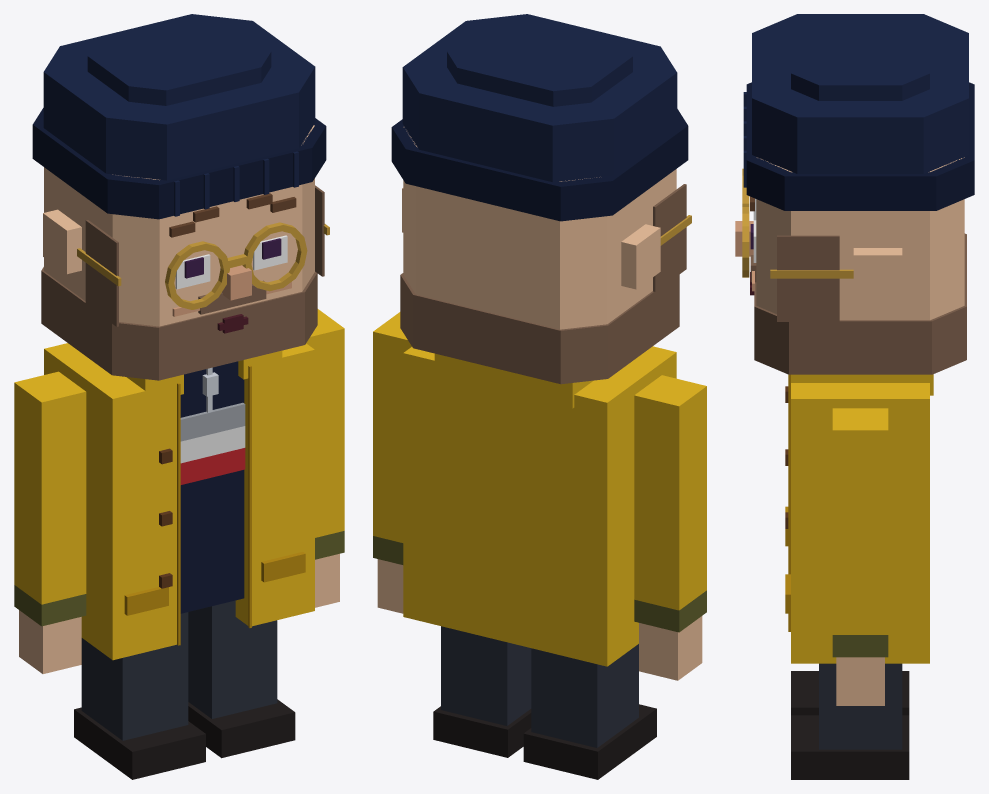
File: personaje.obj
The picture shows the model from 3 angles, left to right: view 1: azimuth 30°, elevation 25°; view 2: azimuth 150°, elevation 25°; view 3: azimuth 270°, elevation 25°; orthographic projection.
Bounding box in the file's own units: 0.51 × 1.1 × 0.344.
